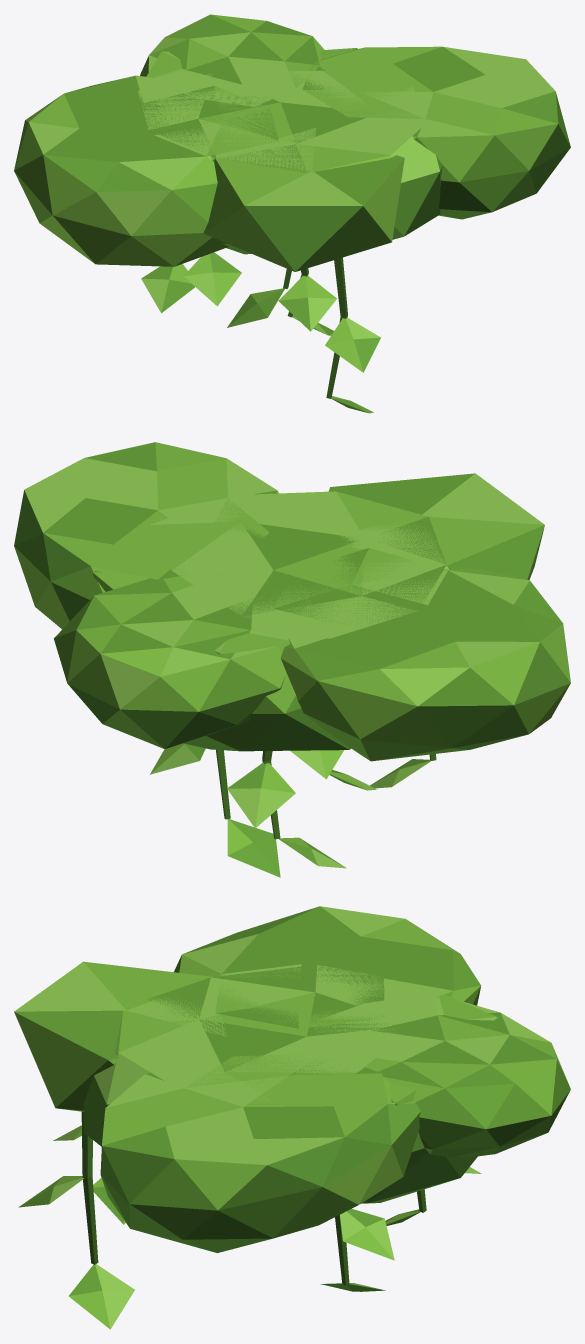
File: mine-canopy-1.glb
3 views of the same model, one above another, from view 1: azimuth 30°, elevation 25°; view 2: azimuth 150°, elevation 25°; view 3: azimuth 270°, elevation 25° (orthographic). The views are drawn at different scales.
Visible parts, largest first — view 1: MineCanopy1; view 2: MineCanopy1; view 3: MineCanopy1.
Part boxes in pixels (x1,y1,x2,y2): MineCanopy1: (14, 14, 570, 413); MineCanopy1: (14, 442, 570, 877); MineCanopy1: (14, 906, 570, 1329).
Bounding box in the file's own units: 3 × 1.5 × 2.63.
